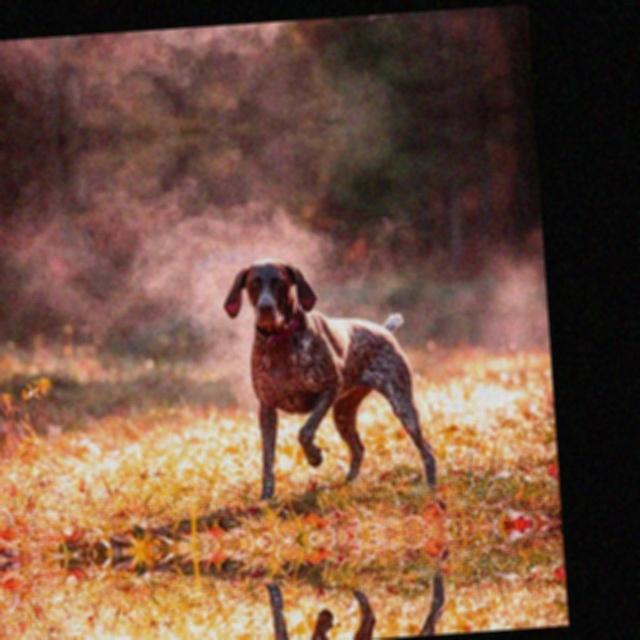dog: (212, 239, 446, 523), (233, 551, 455, 640)
